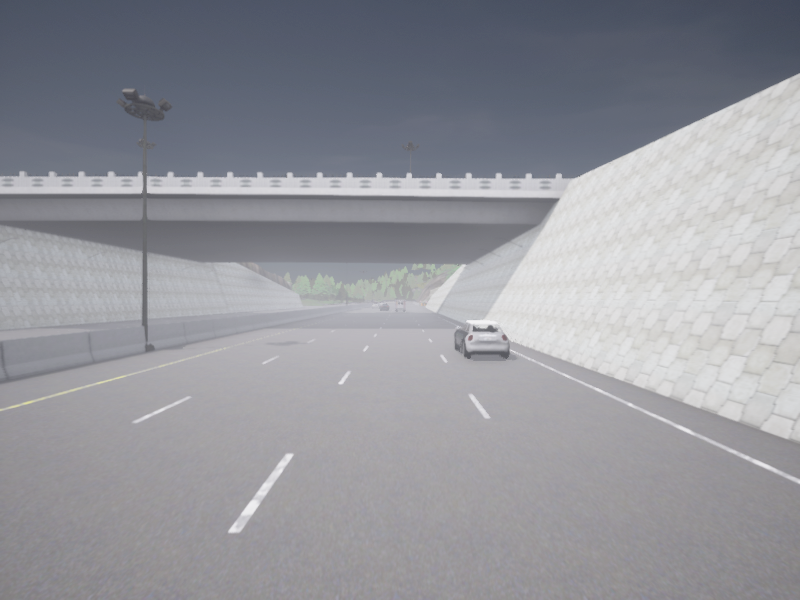vehicle: (454, 321, 509, 357), (395, 300, 405, 310), (381, 304, 389, 310), (373, 301, 380, 307), (380, 301, 385, 304)
